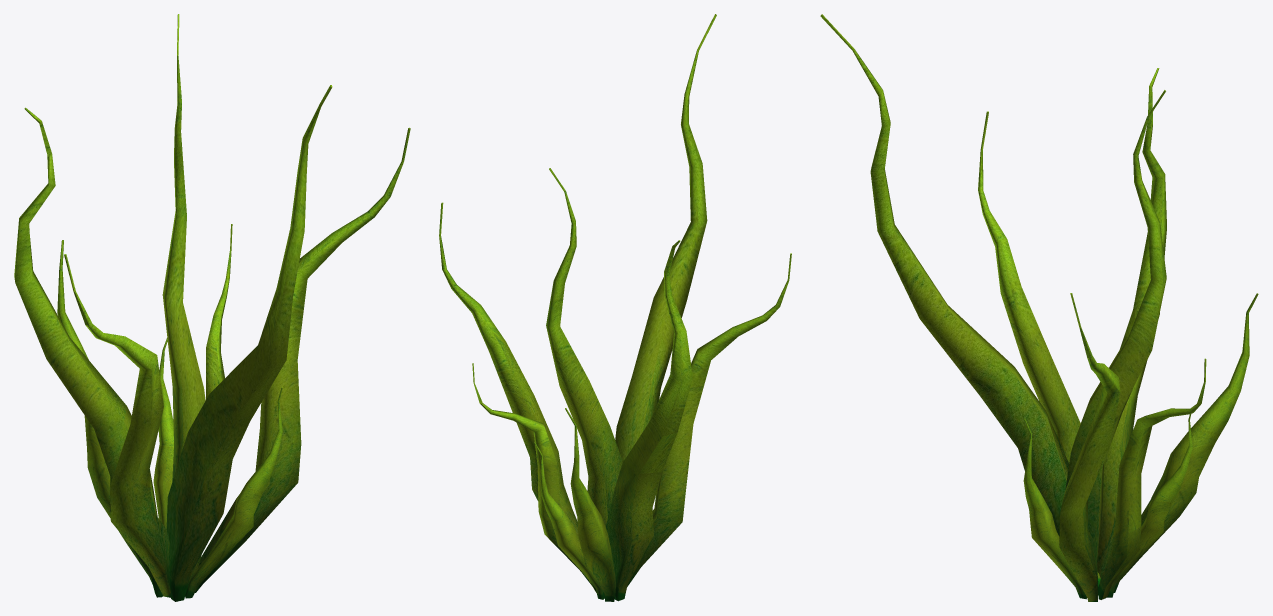
The model's file is Obstáculo Alga.fbx.
3 renders of one model, left to right at view 1: azimuth 30°, elevation 25°; view 2: azimuth 150°, elevation 25°; view 3: azimuth 270°, elevation 25°, orthographic. The views are drawn at different scales.
Visible parts, largest first — view 1: Algas; view 2: Algas; view 3: Algas.
Boxes of the visible parts, bbox=[...] form: Algas: bbox=[14, 14, 410, 601]; Algas: bbox=[439, 14, 791, 601]; Algas: bbox=[820, 14, 1258, 601].
Size of the model in its own units: 107 by 160 by 108.
1 material, 1 textured.
